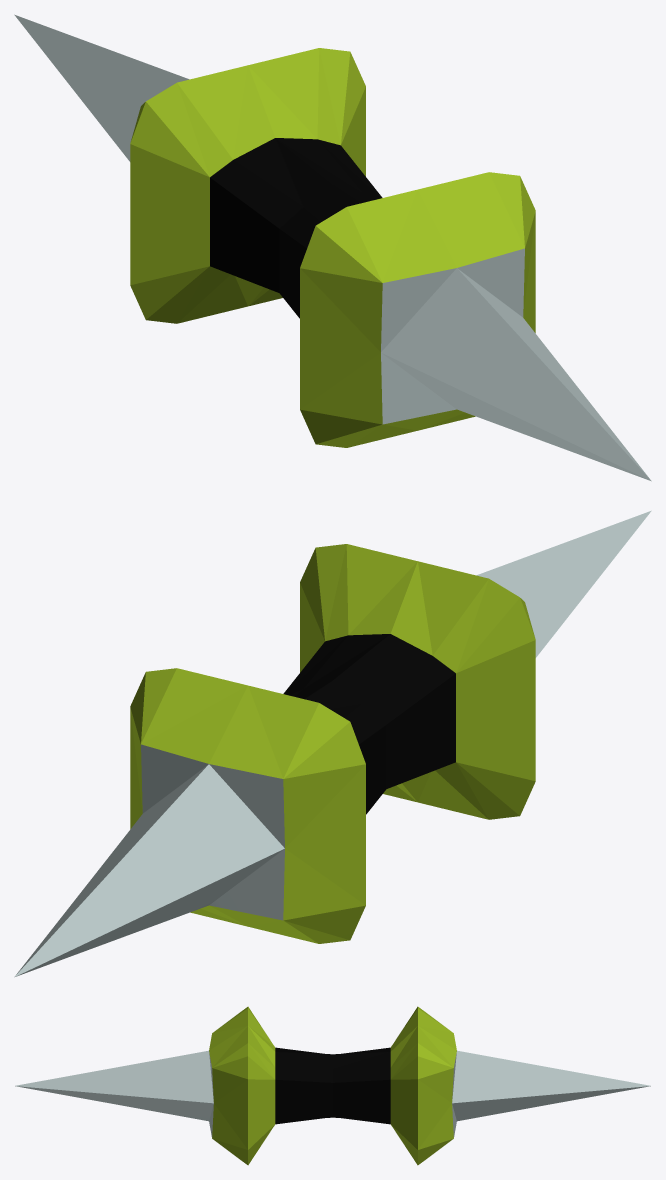
File: needle_R_arm.obj
3 views of the same model, one above another, from view 1: azimuth 30°, elevation 25°; view 2: azimuth 150°, elevation 25°; view 3: azimuth 270°, elevation 25° (orthographic). The views are drawn at different scales.
Visible parts, largest first — view 1: RArm; view 2: RArm; view 3: RArm.
Boxes of the visible parts, left/top/right/bottom form: RArm: left=14, top=14, right=651, bottom=481; RArm: left=14, top=510, right=651, bottom=977; RArm: left=15, top=1006, right=650, bottom=1165.
Size of the model in its own units: 0.4827 by 0.4718 by 2.26.
Materials: 1 (1 with a texture image).
